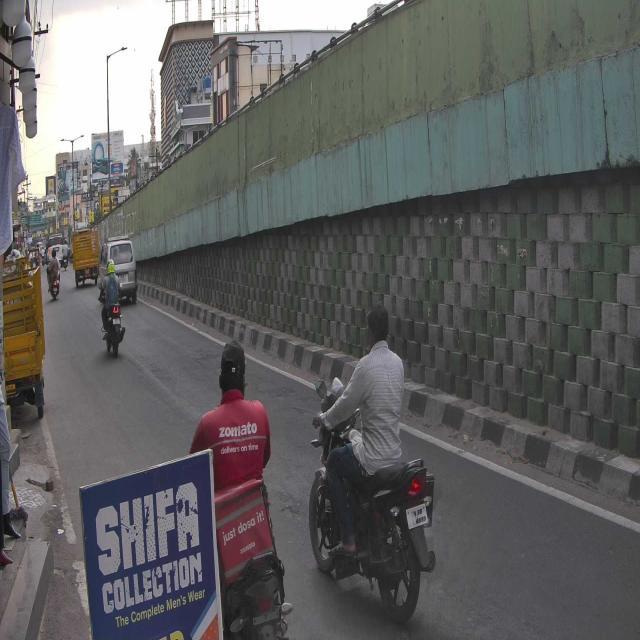single_rider: (308, 299, 438, 620)
